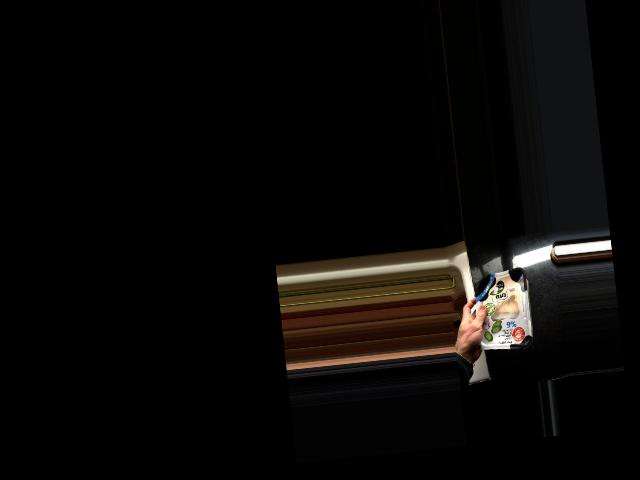cheese: (466, 268, 533, 353)
